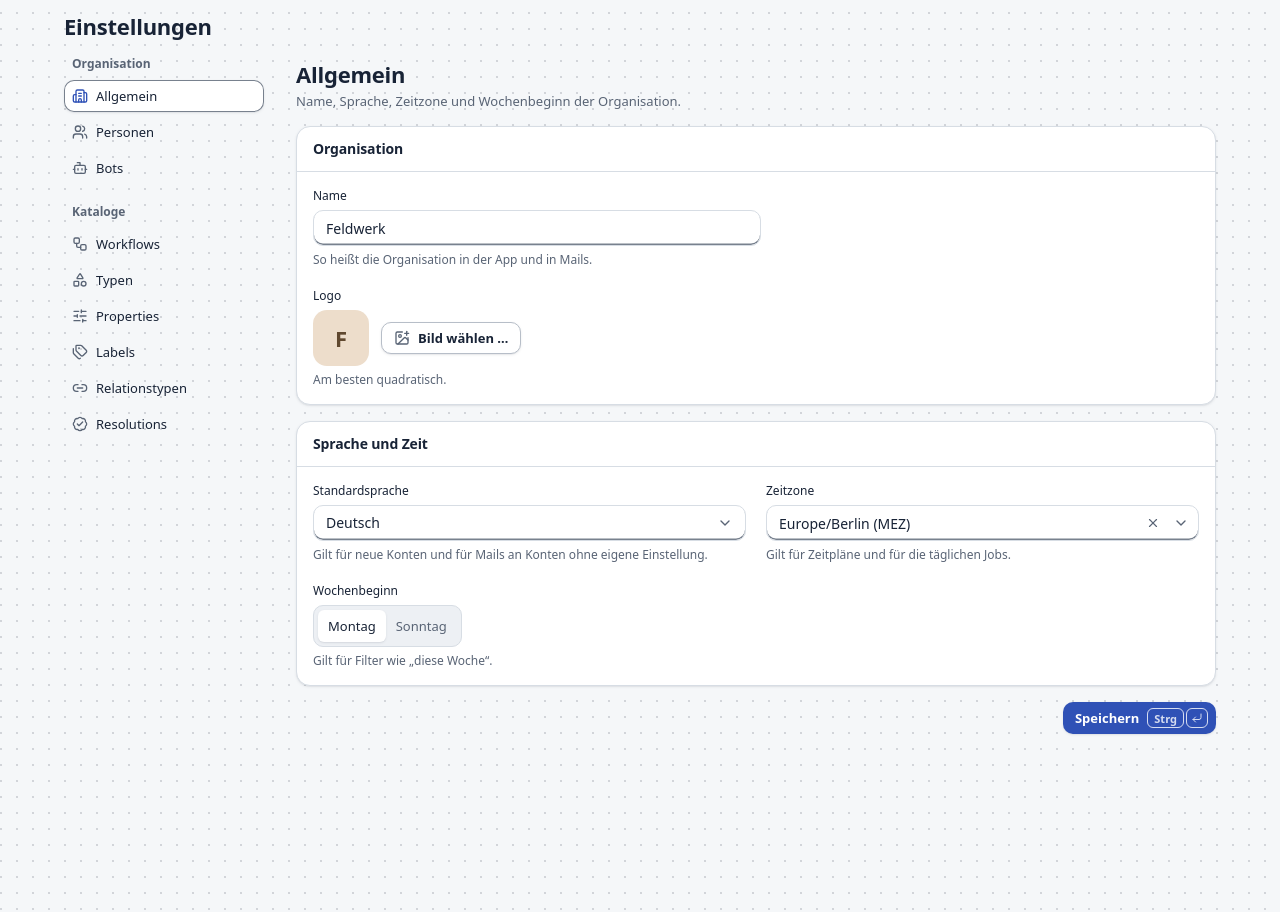
Test: General › shows a refusal of a field it has no place for as a notice, one of its own fields at the field
The image size is (1280, 912).
Type " Nord" into the field labelled "Name".
click(537, 228); type(" Nord")  # box [313,210,761,246]
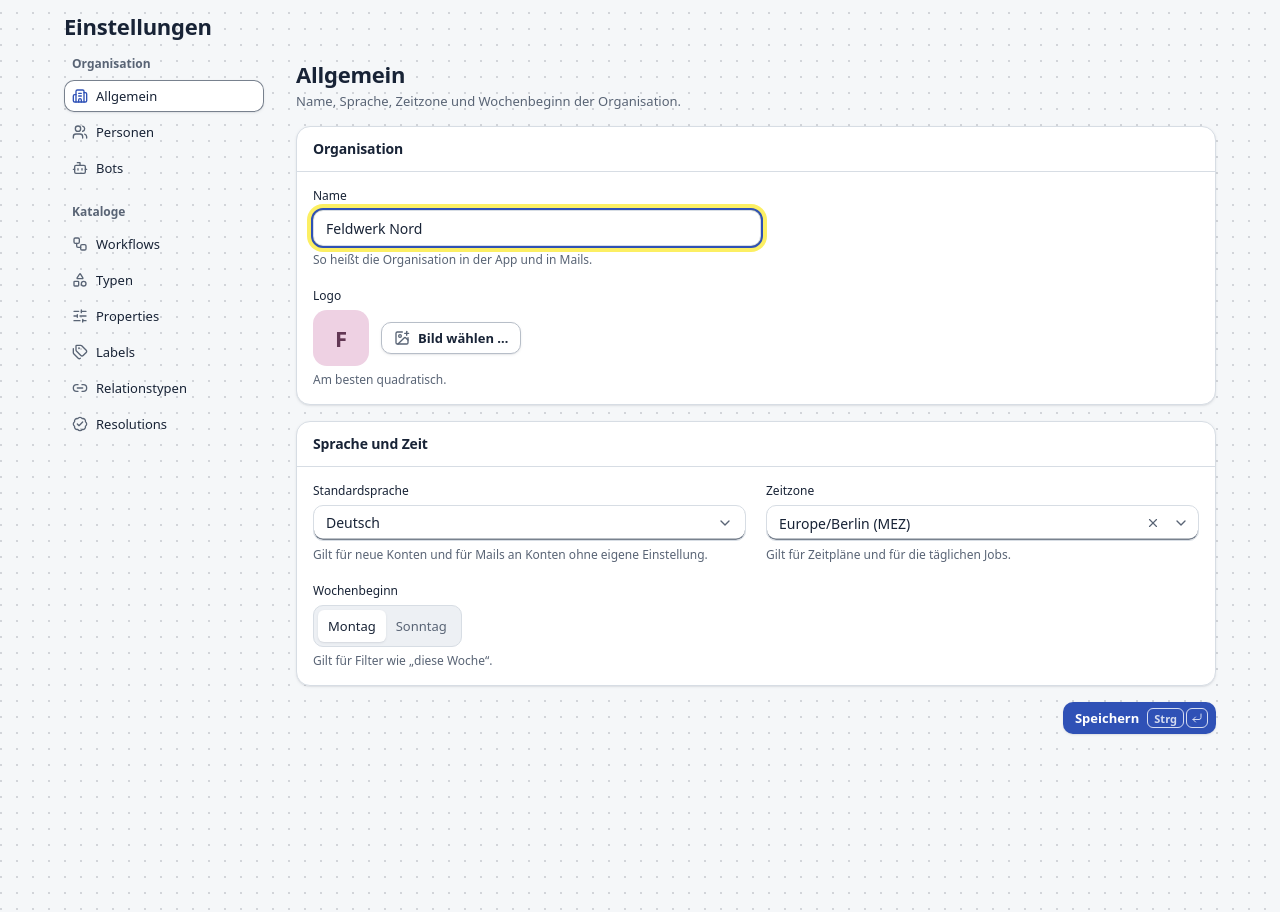
Click the button "Speichern Strg".
click(1139, 718)  # box [1063,702,1216,734]
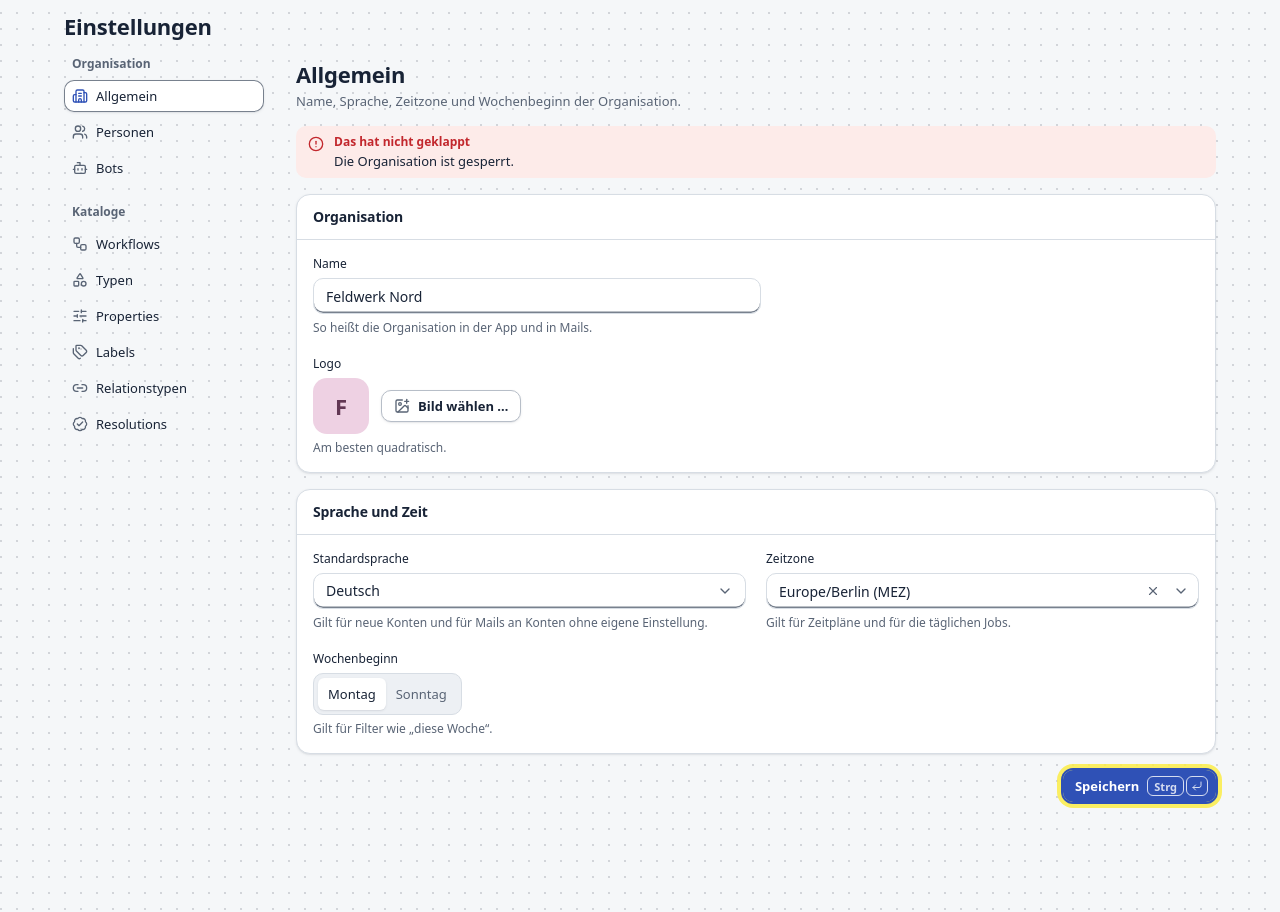
Expected: the message shows "Das hat nicht geklappt", [334,133,470,150]
Expected: the message shows "Die Organisation ist gesperrt.", [334,152,514,170]
Click the button "Speichern Strg".
click(1139, 786)  # box [1063,770,1216,802]
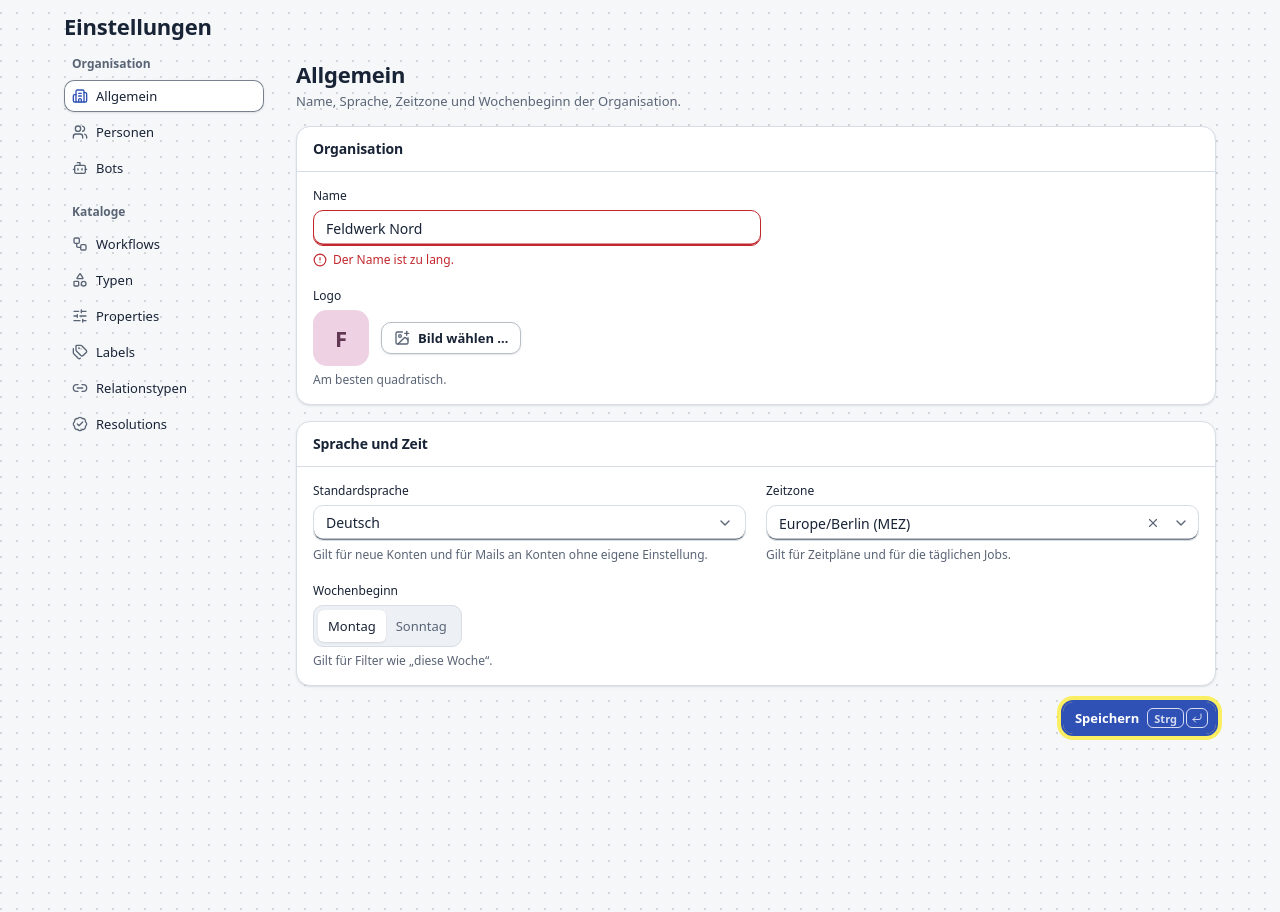
Expected: the text "Der Name ist zu lang." is shown, [313,251,454,268]
Expected: the text "Die Organisation ist gesperrt." is gone
